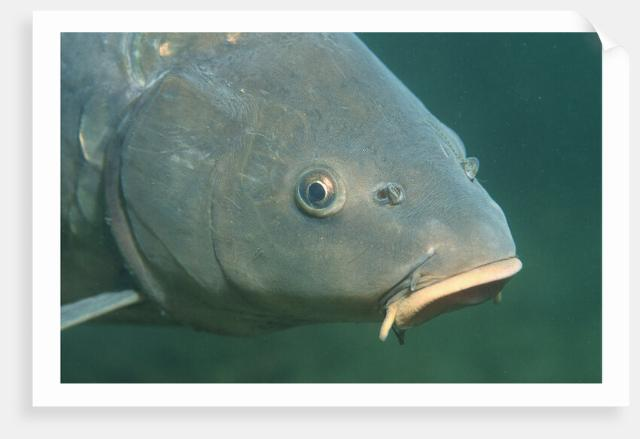Mulut: (342, 239, 550, 367)
